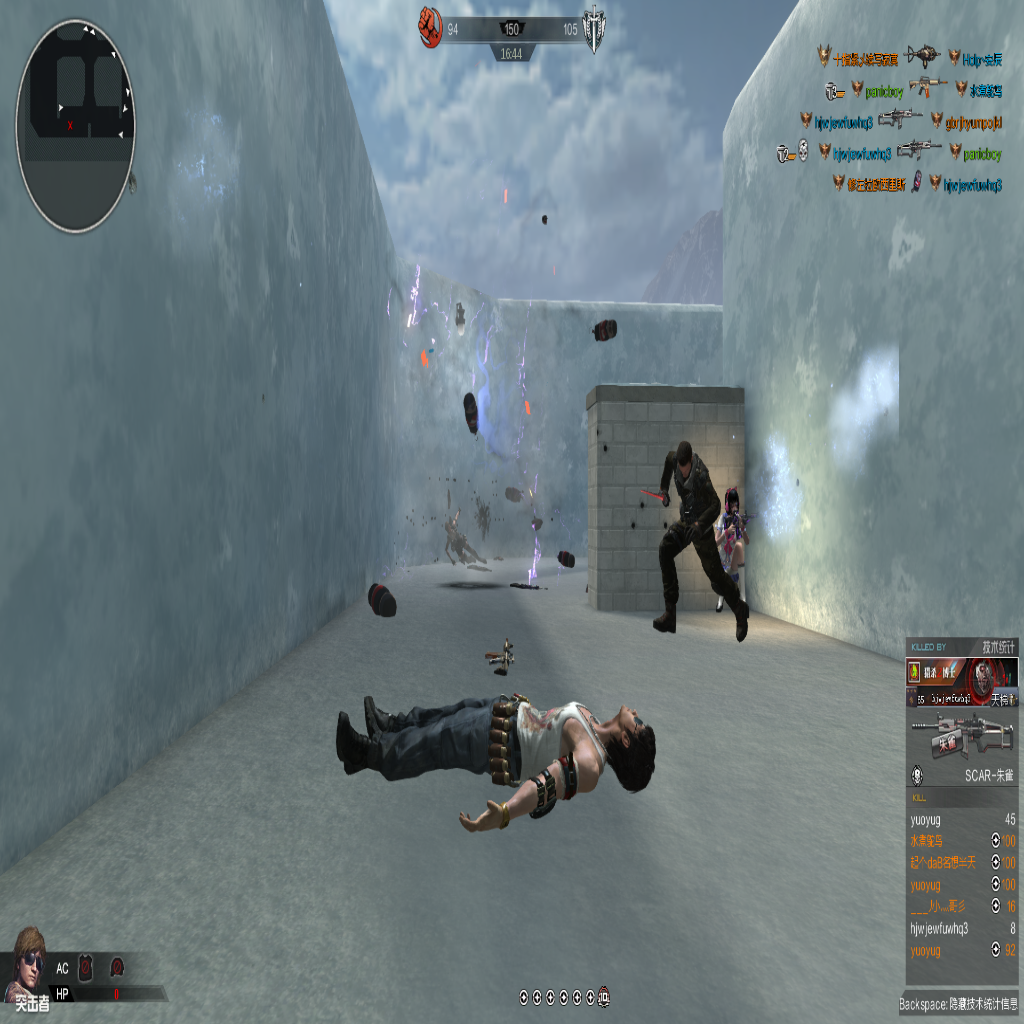ct: (649, 432, 731, 643)
